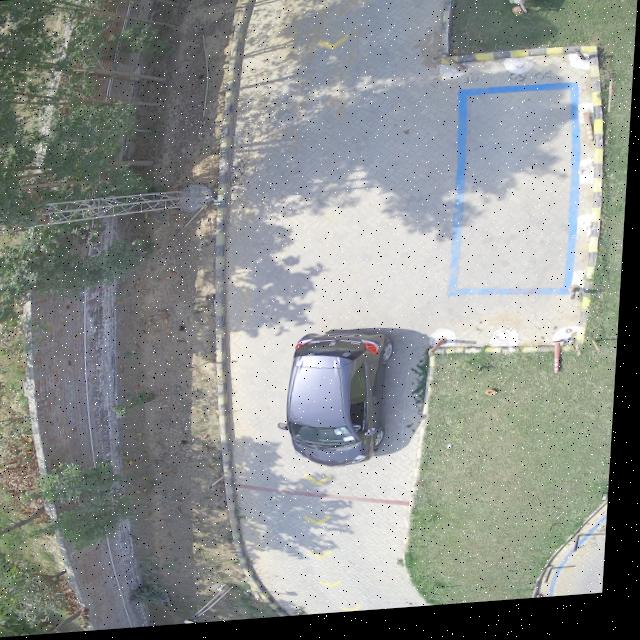car: (292, 337, 400, 471)
